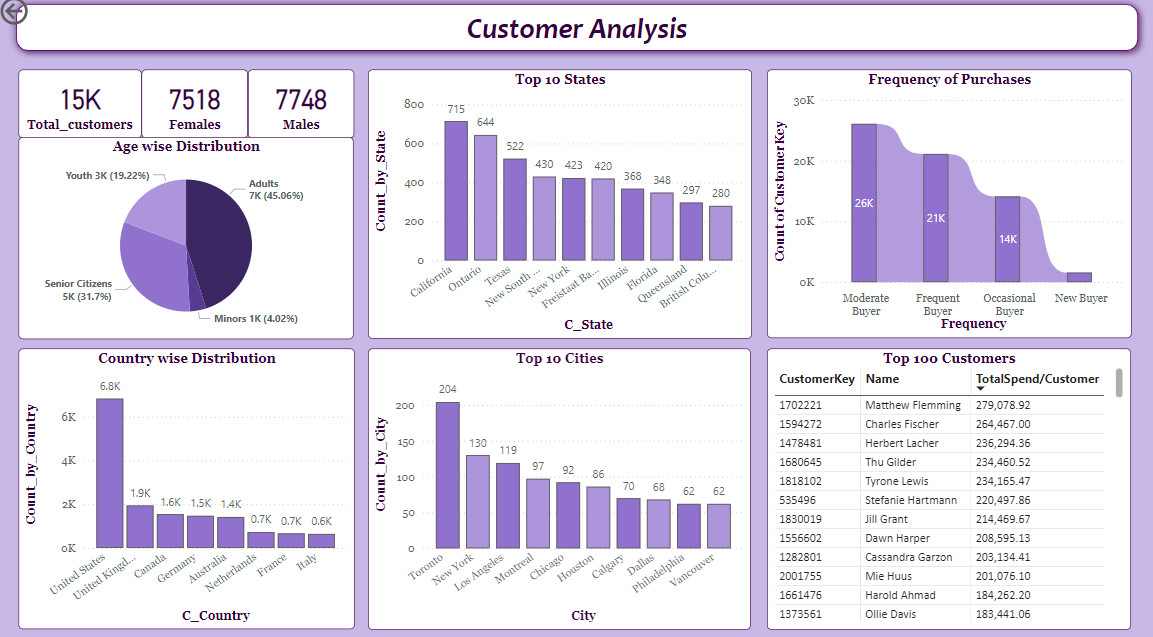

The page's visual inventory and layout, read from the dashboard file:
{"tool":"powerbi","page":{"name":"Customer Analysis","canvas":[1280,720],"ordinal":0},"visuals":[{"type":"shape","box":[0,0,1280.5,720.6],"z":0},{"type":"shape","box":[12.5,3.6,1257.1,69.6],"z":1000},{"type":"card","fields":{"Values":["Calculated measure.Total_customers"]},"box":[24.8,84.5,135.8,76.2],"z":2000},{"type":"card","fields":{"Values":["dataspark customers.Females"]},"box":[160.7,84.5,117.6,76.2],"z":3000},{"type":"card","fields":{"Values":["dataspark customers.Males"]},"box":[278.3,84.5,117.6,76.2],"z":4000},{"type":"pieChart","title":"Age wise Distribution","fields":{"Y":["Calculated measure.Total_customers"],"Series":["dataspark customers.Age Category"]},"box":[25.4,158.5,370,223.1],"z":5000},{"type":"columnChart","title":"Country wise Distribution","fields":{"Y":["Calculated measure.Count_by_Country"],"Category":["dataspark customers.C_Country"]},"box":[24.4,393.3,371.1,310],"z":6000},{"type":"ribbonChart","title":"Frequency of Purchases","fields":{"Category":["dataspark sales.Frequency"],"Y":["dataspark sales.CustomerKey"]},"box":[851.4,84.5,402.5,296.5],"z":7000},{"type":"tableEx","title":"Top 100 Customers","fields":{"Values":["dataspark customers.CustomerKey","dataspark customers.Name","Calculated measure.TotalSpend/Customer"]},"box":[851.7,393.1,401.7,310.3],"z":8000},{"type":"actionButton","box":[0,0,100,40],"z":9000},{"type":"columnChart","title":"Top 10 States","fields":{"Category":["dataspark customers.C_State"],"Y":["Calculated measure.Count_by_State"]},"box":[410,83.8,423.8,297.5],"z":10000},{"type":"columnChart","title":"Top 10 Cities","fields":{"Y":["Calculated measure.Count_by_City"],"Category":["dataspark customers.City"]},"box":[410.3,393.1,422.4,310.3],"z":11000}]}

Visuals, with their boxes in screenshot pixels (x1, y1, x2, y2), scaled from the page's 1280x720 canvas onto the 1153x637 screenshot:
shape: crop(0, 0, 1152, 636)
shape: crop(11, 3, 1144, 65)
card - Calculated measure.Total_customers: crop(22, 75, 145, 142)
card - dataspark customers.Females: crop(145, 75, 251, 142)
card - dataspark customers.Males: crop(251, 75, 357, 142)
"Age wise Distribution" pieChart: crop(23, 140, 356, 338)
"Country wise Distribution" columnChart: crop(22, 348, 356, 622)
"Frequency of Purchases" ribbonChart: crop(767, 75, 1129, 337)
"Top 100 Customers" tableEx: crop(767, 348, 1129, 622)
actionButton: crop(0, 0, 90, 35)
"Top 10 States" columnChart: crop(369, 74, 751, 337)
"Top 10 Cities" columnChart: crop(370, 348, 750, 622)
